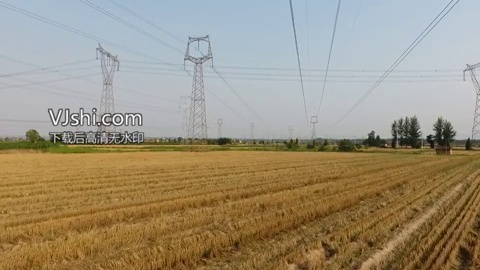tower_body: (174, 30, 221, 150), (89, 42, 126, 112)
tower_foot: (189, 121, 210, 147)
tower_head: (90, 43, 122, 81), (178, 33, 217, 64)
